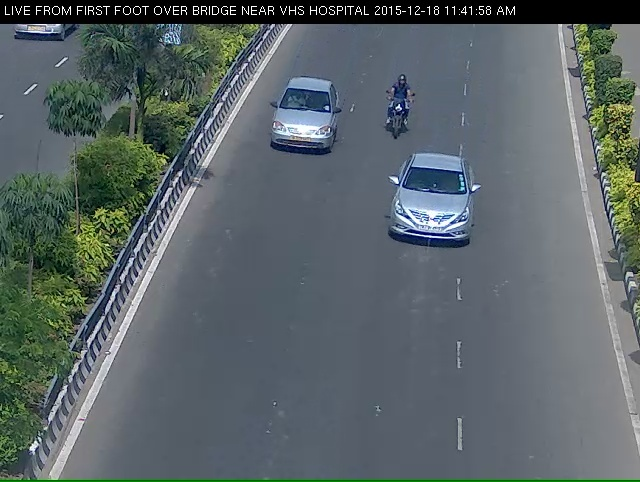Car: (389, 168, 481, 275), (262, 85, 329, 171)
Person: (370, 85, 416, 155)
